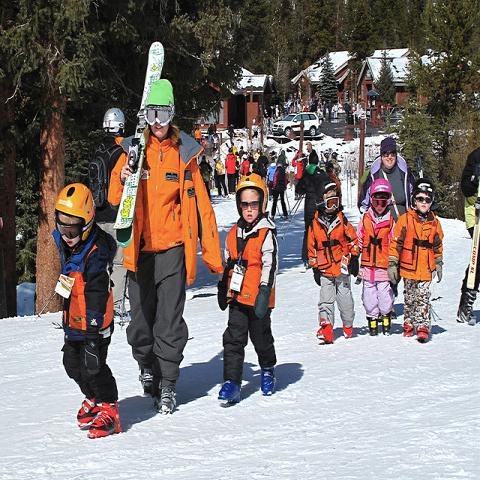car: (271, 110, 320, 136)
